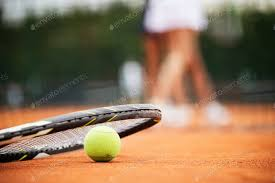tennis_ball: (84, 126, 120, 163)
